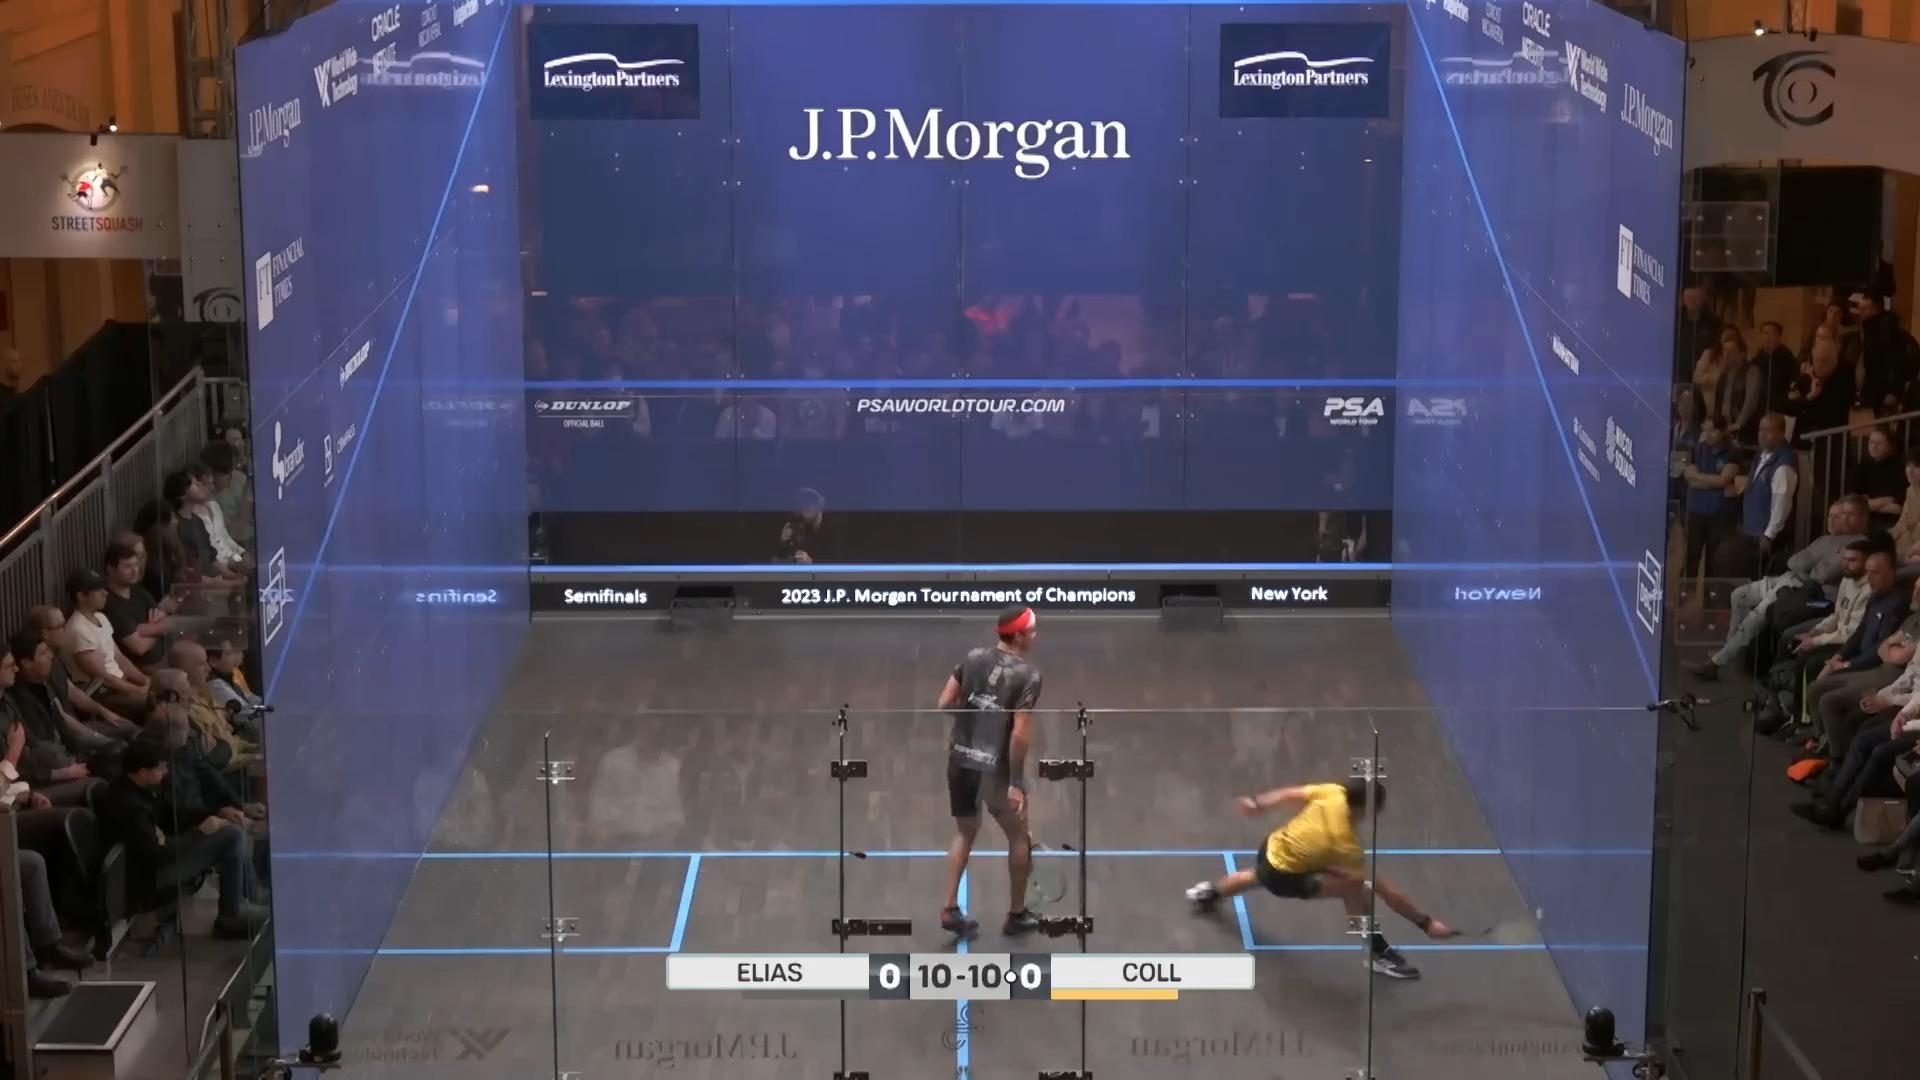Racket: (998, 816, 1059, 914), (1451, 914, 1556, 961)
